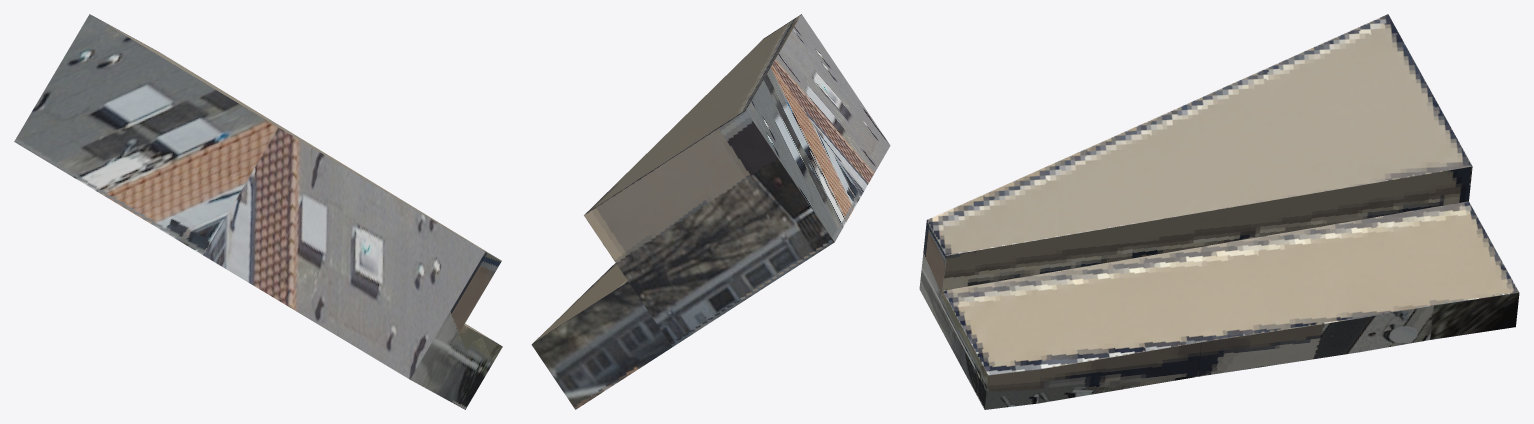
3 renders of one model, left to right at view 1: azimuth 30°, elevation 25°; view 2: azimuth 150°, elevation 25°; view 3: azimuth 270°, elevation 25°, orthographic. The views are drawn at different scales.
Visible parts, largest first — view 1: BAG_0599100010057617 (×3); view 2: BAG_0599100010057617 (×3); view 3: BAG_0599100010057617 (×6).
Boxes of the visible parts, x1,y1,x2,y2 form: BAG_0599100010057617 (×3): (14, 14, 502, 409); BAG_0599100010057617 (×3): (531, 14, 890, 409); BAG_0599100010057617 (×6): (919, 14, 1519, 409).
Bounding box in the file's own units: 11.88 × 11.29 × 20.09.
Materials: 6 (6 with a texture image).
